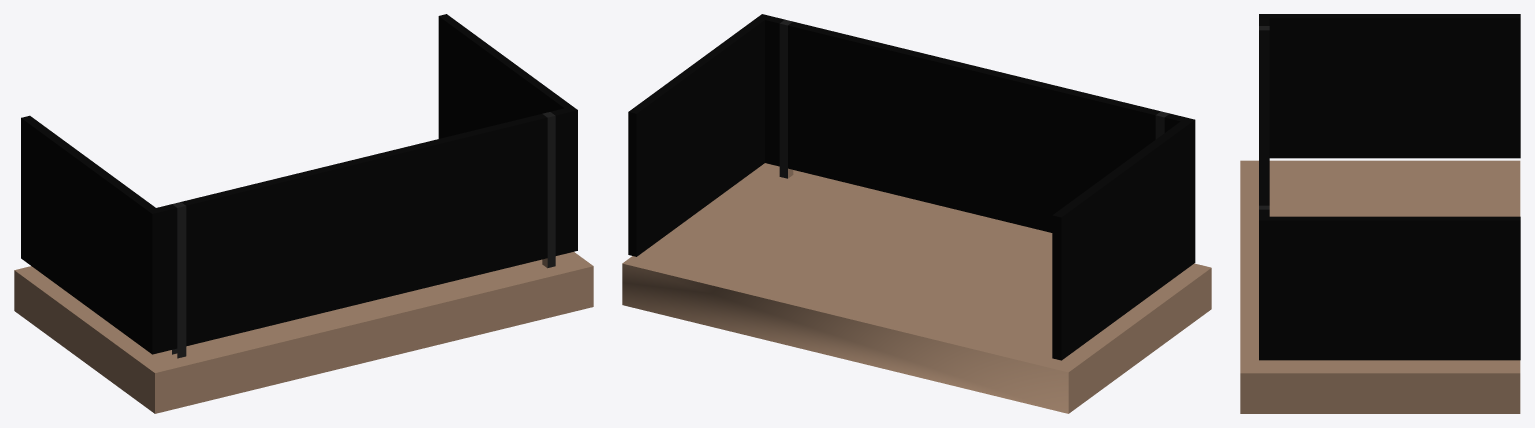
The model's file is Modular_Balcony.FBX.
The picture shows the model from 3 angles, left to right: view 1: azimuth 30°, elevation 25°; view 2: azimuth 150°, elevation 25°; view 3: azimuth 270°, elevation 25°; orthographic projection. The views are drawn at different scales.
Visible parts, largest first — view 1: Modular_Balcony_MiddlePiece; view 2: Modular_Balcony_MiddlePiece; view 3: Modular_Balcony_MiddlePiece.
Boxes of the visible parts, x1=… form: Modular_Balcony_MiddlePiece: x1=14, y1=14, x2=593, y2=413; Modular_Balcony_MiddlePiece: x1=622, y1=14, x2=1211, y2=413; Modular_Balcony_MiddlePiece: x1=1240, y1=14, x2=1520, y2=413.
Bounding box in the file's own units: 22.86 × 9.53 × 12.71.
